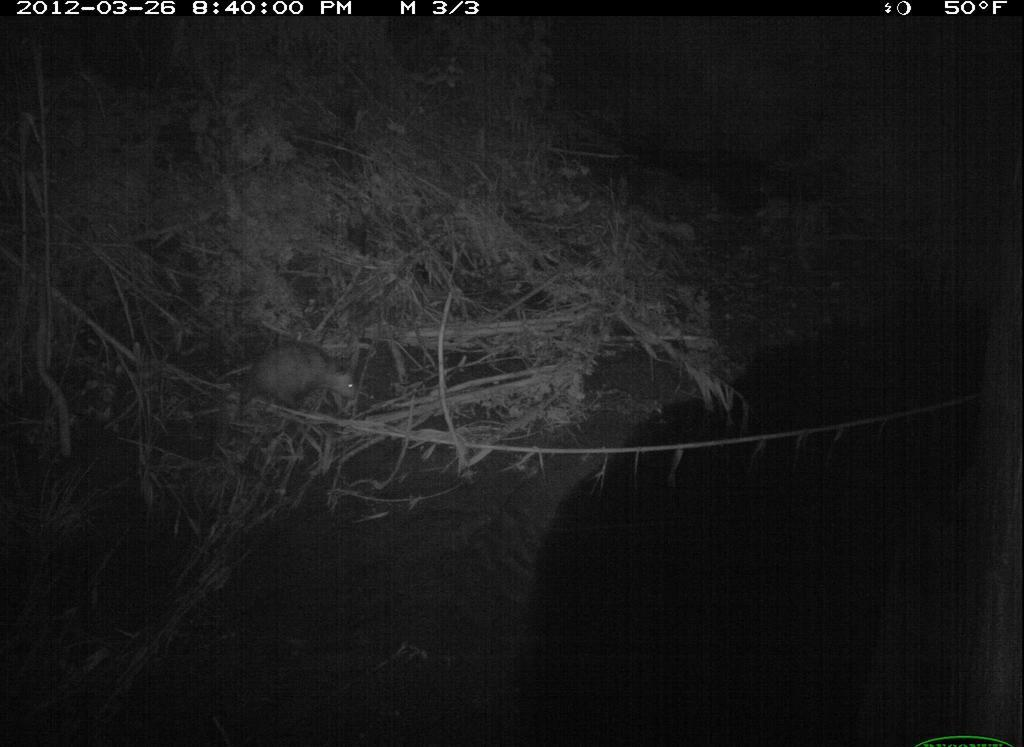opossum: (218, 331, 377, 432)
